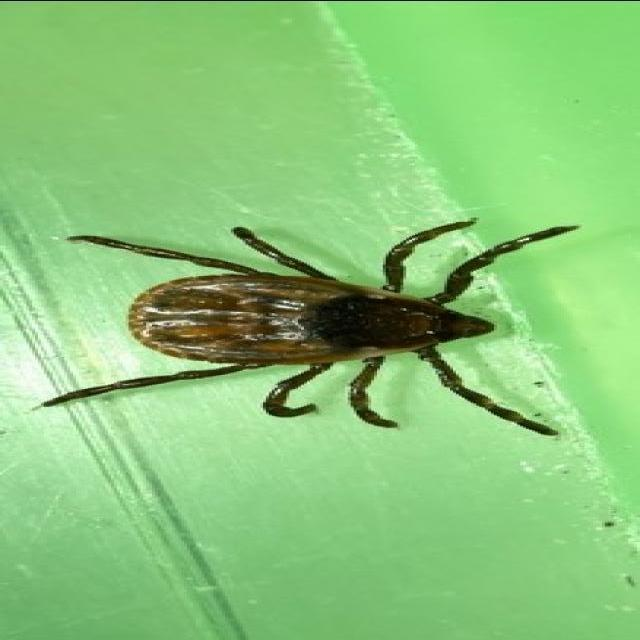Rhipicephalus Sanguineus-F: (38, 217, 582, 436)
